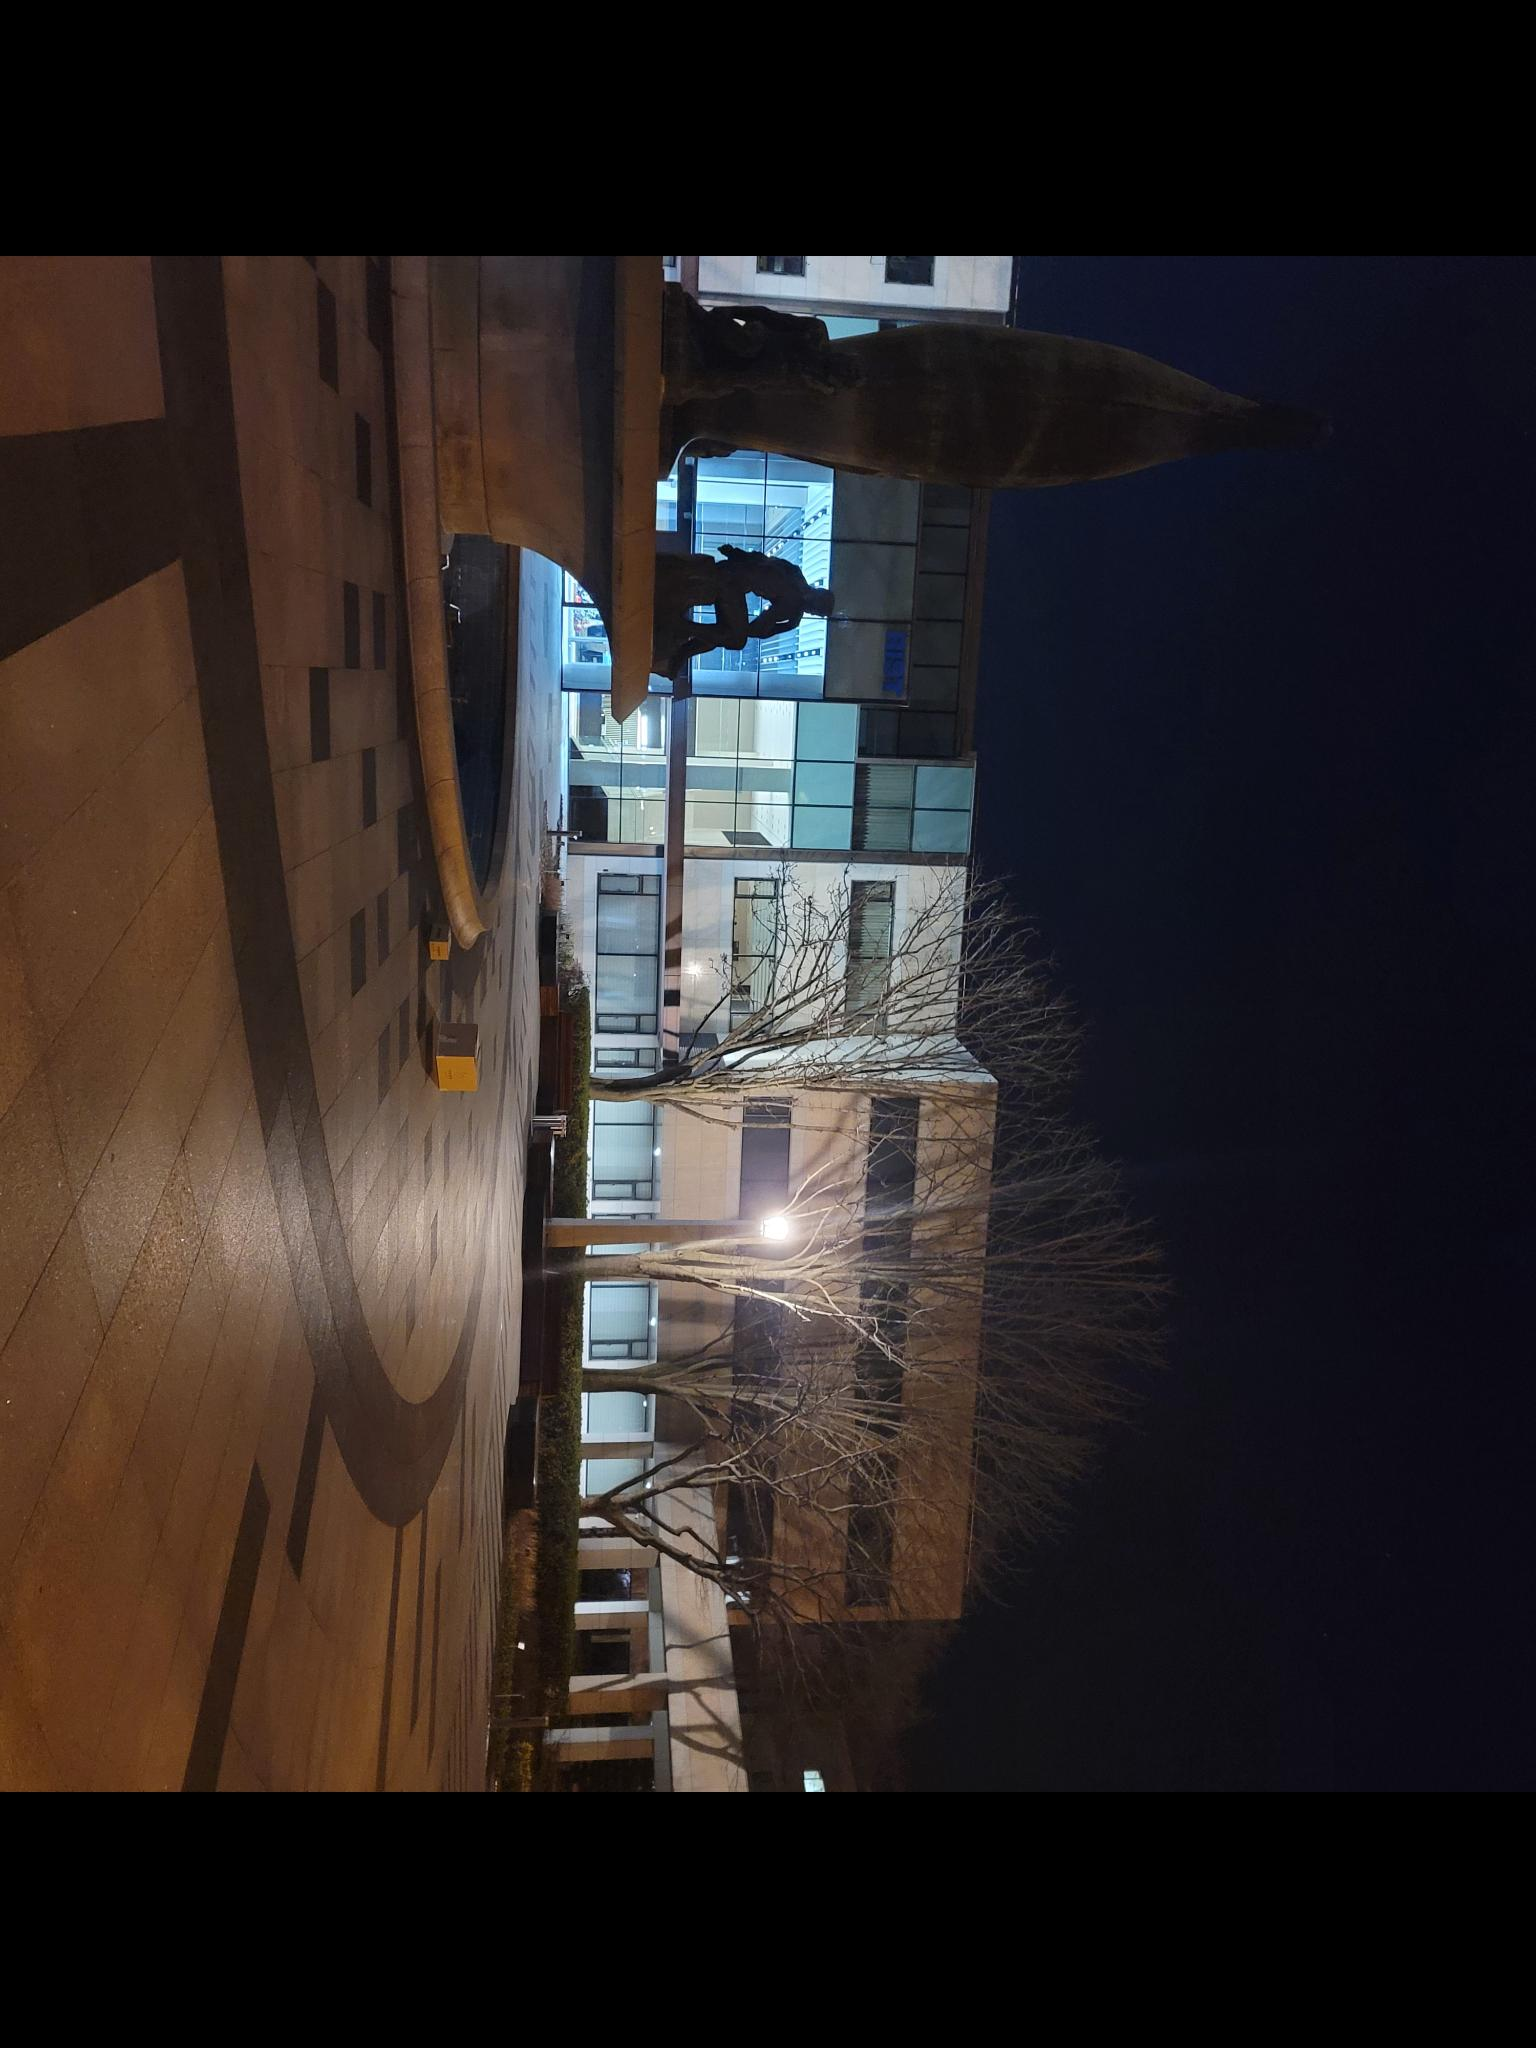Box: (423, 1022, 492, 1100), (423, 922, 461, 963)
